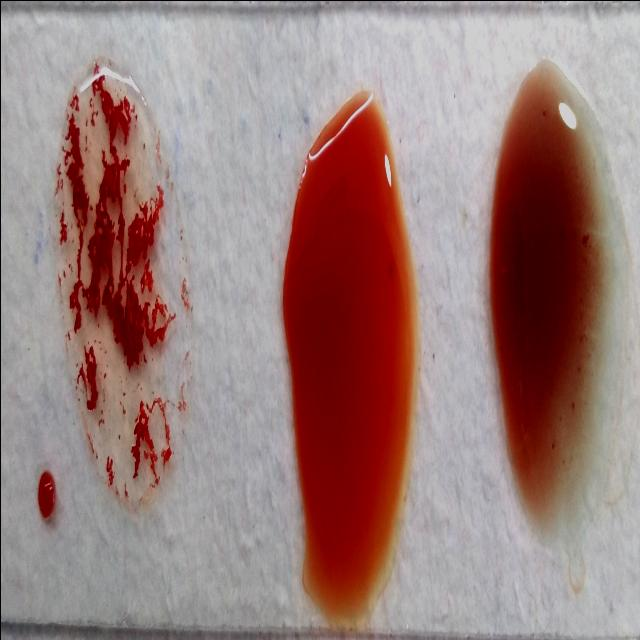D: (58, 68, 182, 495)
